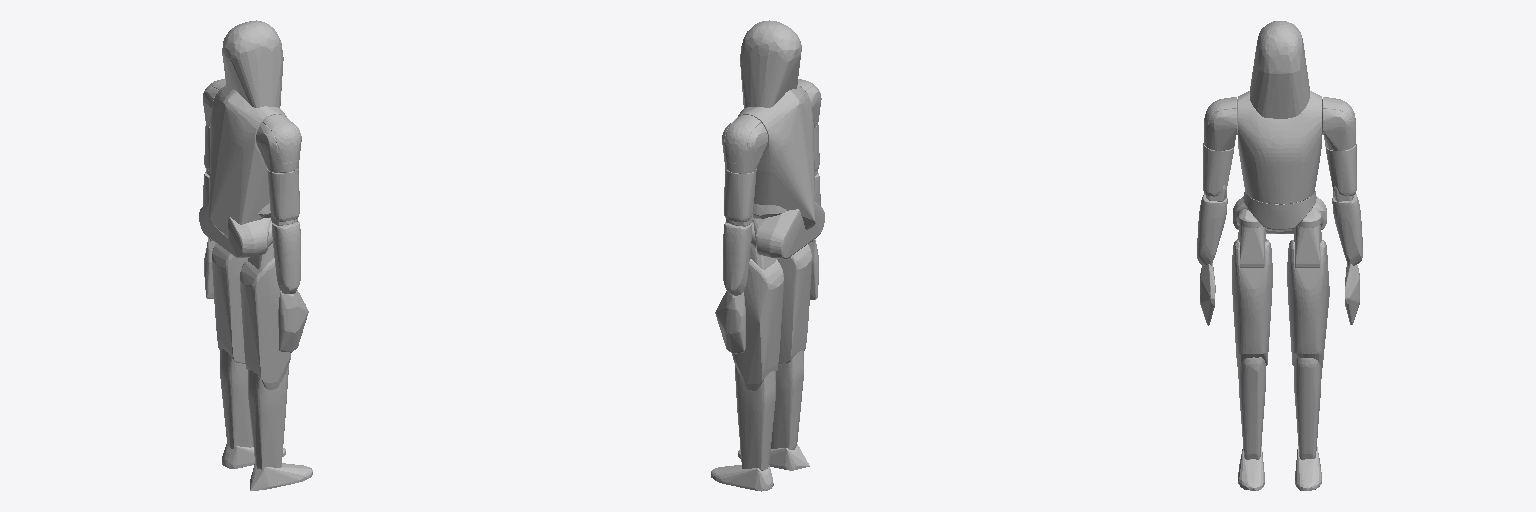
--- Facts derived from the render (not from the file) ---
Views: 3 orthographic renders of the robot side by side, from view 1: azimuth 30°, elevation 25°; view 2: azimuth 150°, elevation 25°; view 3: azimuth 270°, elevation 25°.
Robot: p5_humanoid — 39 links, 38 joints (30 revolute, 8 fixed); root link pelvis; default pose: all joints at 0.
Visible links, largest first — view 1: link_wy, LINK_HIP_PITCH_R, link_hp, LINK_KNEE_PITCH_R, LINK_HIP_PITCH_L, LINK_KNEE_PITCH_L, pelvis, link_ra5, link_ra3, link_ra7, LINK_ANKLE_ROLL_R, link_ra1 (+2 smaller); view 2: link_wy, LINK_HIP_PITCH_L, link_hp, LINK_KNEE_PITCH_L, LINK_HIP_PITCH_R, pelvis, LINK_KNEE_PITCH_R, link_la5, link_la7, link_la3, LINK_ANKLE_ROLL_L, link_la1 (+2 smaller); view 3: link_wy, link_hp, LINK_HIP_PITCH_L, LINK_HIP_PITCH_R, LINK_KNEE_PITCH_R, LINK_KNEE_PITCH_L, link_wr, link_ra5, link_la5, link_la3, link_ra3, link_la2 (+7 smaller).
Boxes of the visible links, x1,y1,x2,y2 form: link_wy: (209,85,286,237); LINK_HIP_PITCH_R: (240,258,290,389); link_hp: (222,20,283,107); LINK_KNEE_PITCH_R: (248,365,288,469); LINK_HIP_PITCH_L: (212,244,246,363); LINK_KNEE_PITCH_L: (220,349,252,448); pelvis: (199,202,270,257); link_ra5: (272,221,300,293); link_ra3: (267,168,299,221); link_ra7: (278,290,308,352); LINK_ANKLE_ROLL_R: (250,463,312,490); link_ra1: (263,114,299,162); link_wy: (738,85,815,229); LINK_HIP_PITCH_L: (732,259,783,390); link_hp: (740,20,801,107); LINK_KNEE_PITCH_L: (735,366,775,470); LINK_HIP_PITCH_R: (777,244,811,364); pelvis: (752,202,824,258); LINK_KNEE_PITCH_R: (771,350,803,449); link_la5: (723,222,751,295); link_la7: (715,291,745,353); link_la3: (724,169,756,222); LINK_ANKLE_ROLL_L: (711,465,773,491); link_la1: (724,115,760,163); link_wy: (1238,91,1321,204); link_hp: (1250,21,1309,118); LINK_HIP_PITCH_L: (1287,240,1329,372); LINK_HIP_PITCH_R: (1232,240,1272,371); LINK_KNEE_PITCH_R: (1238,357,1265,459); LINK_KNEE_PITCH_L: (1294,358,1321,459); link_wr: (1243,191,1316,231); link_ra5: (1197,194,1227,265); link_la5: (1332,194,1362,265); link_la3: (1325,144,1356,195); link_ra3: (1203,143,1234,196); link_la2: (1323,109,1355,150).
Bounding box of the posed robot: 0.3575 × 0.5845 × 1.72 m (x, y, z).
31 mesh visuals loaded from 31 distinct referenced files (31 binary STL).

The robot description file, URDF, robot "p5_humanoid":
<?xml version="1.0" encoding="utf-8"?>
<!-- This URDF was automatically created by SolidWorks to URDF Exporter! Originally created by Stephen Brawner ([email redacted]) 
     Commit Version: 1.6.0-4-g7f85cfe  Build Version: 1.6.7995.38578
     For more information, please see http://wiki.ros.org/sw_urdf_exporter -->
<robot
  name="p5_humanoid">
  <link
    name="pelvis">
    <inertial>
      <origin
        xyz="-0.086313 -4E-06 -0.0084497"
        rpy="0 0 0" />
      <mass
        value="6.1954" />
      <inertia
        ixx="0.062596"
        ixy="4.1E-06"
        ixz="-0.001966"
        iyy="0.019294"
        iyz="-1.52E-06"
        izz="0.061728" />
    </inertial>
    <visual>
      <origin
        xyz="0 0 0"
        rpy="0 0 0" />
      <geometry>
        <mesh
          filename="package://p5_humanoid_description/meshes/pelvis.STL" />
      </geometry>
      <material
        name="">
        <color
          rgba="0.75294 0.75294 0.75294 1" />
      </material>
    </visual>
    <collision>
      <origin
        xyz="0 0 0"
        rpy="0 0 0" />
      <geometry>
        <mesh
          filename="package://p5_humanoid_description/meshes/pelvis.STL" />
      </geometry>
    </collision>
  </link>
  <link
    name="LINK_HIP_ROLL_L">
    <inertial>
      <origin
        xyz="-0.031294 0 0.019786"
        rpy="0 0 0" />
      <mass
        value="0.42465" />
      <inertia
        ixx="0.00053789"
        ixy="0"
        ixz="-0.00015096"
        iyy="0.00070479"
        iyz="0"
        izz="0.00077197" />
    </inertial>
    <visual>
      <origin
        xyz="0 0 0"
        rpy="0 0 0" />
      <geometry>
        <mesh
          filename="package://p5_humanoid_description/meshes/LINK_HIP_ROLL_L.STL" />
      </geometry>
      <material
        name="">
        <color
          rgba="0.75294 0.75294 0.75294 1" />
      </material>
    </visual>
    <collision>
      <origin
        xyz="0 0 0"
        rpy="0 0 0" />
      <geometry>
        <mesh
          filename="package://p5_humanoid_description/meshes/LINK_HIP_ROLL_L.STL" />
      </geometry>
    </collision>
  </link>
  <joint
    name="JOINT_HIP_ROLL_L"
    type="revolute">
    <origin
      xyz="0 0.097 0"
      rpy="0 0 0" />
    <parent
      link="pelvis" />
    <child
      link="LINK_HIP_ROLL_L" />
    <axis
      xyz="1 0 0" />
    <limit
      lower="-0.3491"
      upper="0.5236"
      effort="0"
      velocity="0" />
  </joint>
  <link
    name="LINK_HIP_YAW_L">
    <inertial>
      <origin
        xyz="-0.0016392 -0.0024804 -0.082645"
        rpy="0 0 0" />
      <mass
        value="3.4625" />
      <inertia
        ixx="0.014411"
        ixy="4.002E-05"
        ixz="-0.00016087"
        iyy="0.015463"
        iyz="-0.00037324"
        izz="0.004731" />
    </inertial>
    <visual>
      <origin
        xyz="0 0 0"
        rpy="0 0 0" />
      <geometry>
        <mesh
          filename="package://p5_humanoid_description/meshes/LINK_HIP_YAW_L.STL" />
      </geometry>
      <material
        name="">
        <color
          rgba="0.75294 0.75294 0.75294 1" />
      </material>
    </visual>
    <collision>
      <origin
        xyz="0 0 0"
        rpy="0 0 0" />
      <geometry>
        <mesh
          filename="package://p5_humanoid_description/meshes/LINK_HIP_YAW_L.STL" />
      </geometry>
    </collision>
  </link>
  <joint
    name="JOINT_HIP_YAW_L"
    type="revolute">
    <origin
      xyz="0 0 0"
      rpy="0 0 0" />
    <parent
      link="LINK_HIP_ROLL_L" />
    <child
      link="LINK_HIP_YAW_L" />
    <axis
      xyz="0 0 1" />
    <limit
      lower="-0.2618"
      upper="0.5236"
      effort="0"
      velocity="0" />
  </joint>
  <link
    name="LINK_HIP_PITCH_L">
    <inertial>
      <origin
        xyz="-0.011 -0.00463 -0.15345"
        rpy="0 0 0" />
      <mass
        value="4.94" />
      <inertia
        ixx="0.054775"
        ixy="0.0002207"
        ixz="-0.00068329"
        iyy="0.055558"
        iyz="-7.699E-05"
        izz="0.014543" />
    </inertial>
    <visual>
      <origin
        xyz="0 0 0"
        rpy="0 0 0" />
      <geometry>
        <mesh
          filename="package://p5_humanoid_description/meshes/LINK_HIP_PITCH_L.STL" />
      </geometry>
      <material
        name="">
        <color
          rgba="0.75294 0.75294 0.75294 1" />
      </material>
    </visual>
    <collision>
      <origin
        xyz="0 0 0"
        rpy="0 0 0" />
      <geometry>
        <mesh
          filename="package://p5_humanoid_description/meshes/LINK_HIP_PITCH_L.STL" />
      </geometry>
    </collision>
  </link>
  <joint
    name="JOINT_HIP_PITCH_L"
    type="revolute">
    <origin
      xyz="0 0 -0.118"
      rpy="0 0 0" />
    <parent
      link="LINK_HIP_YAW_L" />
    <child
      link="LINK_HIP_PITCH_L" />
    <axis
      xyz="0 1 0" />
    <limit
      lower="-2.0944"
      upper="0.6981"
      effort="0"
      velocity="0" />
  </joint>
  <link
    name="LINK_KNEE_PITCH_L">
    <inertial>
      <origin
        xyz="0.029073 0.0014349 -0.11933"
        rpy="0 0 0" />
      <mass
        value="3.3429" />
      <inertia
        ixx="0.046651"
        ixy="2.87E-05"
        ixz="0.0017775"
        iyy="0.047076"
        iyz="-0.00051515"
        izz="0.004903" />
    </inertial>
    <visual>
      <origin
        xyz="0 0 0"
        rpy="0 0 0" />
      <geometry>
        <mesh
          filename="package://p5_humanoid_description/meshes/LINK_KNEE_PITCH_L.STL" />
      </geometry>
      <material
        name="">
        <color
          rgba="0.75294 0.75294 0.75294 1" />
      </material>
    </visual>
    <collision>
      <origin
        xyz="0 0 0"
        rpy="0 0 0" />
      <geometry>
        <mesh
          filename="package://p5_humanoid_description/meshes/LINK_KNEE_PITCH_L.STL" />
      </geometry>
    </collision>
  </link>
  <joint
    name="JOINT_KNEE_PITCH_L"
    type="revolute">
    <origin
      xyz="-0.03295 0 -0.3875"
      rpy="0 0 0" />
    <parent
      link="LINK_HIP_PITCH_L" />
    <child
      link="LINK_KNEE_PITCH_L" />
    <axis
      xyz="0 1 0" />
    <limit
      lower="0"
      upper="2.618"
      effort="0"
      velocity="0" />
  </joint>
  <link
    name="LINK_ANKLE_PITCH_L">
    <inertial>
      <origin
        xyz="0 0 -0.0088014"
        rpy="0 0 0" />
      <mass
        value="0.070742" />
      <inertia
        ixx="1.033E-05"
        ixy="0"
        ixz="0"
        iyy="1.12E-05"
        iyz="0"
        izz="1.1E-05" />
    </inertial>
    <visual>
      <origin
        xyz="0 0 0"
        rpy="0 0 0" />
      <geometry>
        <mesh
          filename="package://p5_humanoid_description/meshes/LINK_ANKLE_PITCH_L.STL" />
      </geometry>
      <material
        name="">
        <color
          rgba="0.75294 0.75294 0.75294 1" />
      </material>
    </visual>
    <collision>
      <origin
        xyz="0 0 0"
        rpy="0 0 0" />
      <geometry>
        <mesh
          filename="package://p5_humanoid_description/meshes/LINK_ANKLE_PITCH_L.STL" />
      </geometry>
    </collision>
  </link>
  <joint
    name="JOINT_ANKLE_PITCH_L"
    type="revolute">
    <origin
      xyz="0.035055 0 -0.3867"
      rpy="0 0 3.3961E-05" />
    <parent
      link="LINK_KNEE_PITCH_L" />
    <child
      link="LINK_ANKLE_PITCH_L" />
    <axis
      xyz="0 1 0" />
    <limit
      lower="-1.309"
      upper="0.5236"
      effort="0"
      velocity="0" />
  </joint>
  <link
    name="LINK_ANKLE_ROLL_L">
    <inertial>
      <origin
        xyz="0.01688 0.0011655 -0.025073"
        rpy="0 0 0" />
      <mass
        value="0.72433" />
      <inertia
        ixx="0.0006611"
        ixy="-2E-08"
        ixz="0.00037079"
        iyy="0.0027538"
        iyz="1.054E-05"
        izz="0.0027604" />
    </inertial>
    <visual>
      <origin
        xyz="0 0 0"
        rpy="0 0 0" />
      <geometry>
        <mesh
          filename="package://p5_humanoid_description/meshes/LINK_ANKLE_ROLL_L.STL" />
      </geometry>
      <material
        name="">
        <color
          rgba="0.75294 0.75294 0.75294 1" />
      </material>
    </visual>
    <collision>
      <origin
        xyz="0 0 0"
        rpy="0 0 0" />
      <geometry>
        <mesh
          filename="package://p5_humanoid_description/meshes/LINK_ANKLE_ROLL_L.STL" />
      </geometry>
    </collision>
  </link>
  <joint
    name="JOINT_ANKLE_ROLL_L"
    type="revolute">
    <origin
      xyz="0 0 -0.01"
      rpy="0 0 0" />
    <parent
      link="LINK_ANKLE_PITCH_L" />
    <child
      link="LINK_ANKLE_ROLL_L" />
    <axis
      xyz="1 0 0" />
    <limit
      lower="-0.3491"
      upper="0.3491"
      effort="0"
      velocity="0" />
  </joint>
  <link
    name="LINK_HIP_ROLL_R">
    <inertial>
      <origin
        xyz="-0.031294 0 0.019786"
        rpy="0 0 0" />
      <mass
        value="0.42465" />
      <inertia
        ixx="0.00053789"
        ixy="0"
        ixz="-0.00015096"
        iyy="0.00070479"
        iyz="0"
        izz="0.00077197" />
    </inertial>
    <visual>
      <origin
        xyz="0 0 0"
        rpy="0 0 0" />
      <geometry>
        <mesh
          filename="package://p5_humanoid_description/meshes/LINK_HIP_ROLL_R.STL" />
      </geometry>
      <material
        name="">
        <color
          rgba="0.75294 0.75294 0.75294 1" />
      </material>
    </visual>
    <collision>
      <origin
        xyz="0 0 0"
        rpy="0 0 0" />
      <geometry>
        <mesh
          filename="package://p5_humanoid_description/meshes/LINK_HIP_ROLL_R.STL" />
      </geometry>
    </collision>
  </link>
  <joint
    name="JOINT_HIP_ROLL_R"
    type="revolute">
    <origin
      xyz="0 -0.097 0"
      rpy="0 0 0" />
    <parent
      link="pelvis" />
    <child
      link="LINK_HIP_ROLL_R" />
    <axis
      xyz="1 0 0" />
    <limit
      lower="-0.5236"
      upper="0.3491"
      effort="0"
      velocity="0" />
  </joint>
  <link
    name="LINK_HIP_YAW_R">
    <inertial>
      <origin
        xyz="-0.0017033 0.002551 -0.08263"
        rpy="0 0 0" />
      <mass
        value="3.4625" />
      <inertia
        ixx="0.014606"
        ixy="-3.243E-05"
        ixz="-0.00014634"
        iyy="0.016012"
        iyz="0.00035832"
        izz="0.004918" />
    </inertial>
    <visual>
      <origin
        xyz="0 0 0"
        rpy="0 0 0" />
      <geometry>
        <mesh
          filename="package://p5_humanoid_description/meshes/LINK_HIP_YAW_R.STL" />
      </geometry>
      <material
        name="">
        <color
          rgba="0.75294 0.75294 0.75294 1" />
      </material>
    </visual>
    <collision>
      <origin
        xyz="0 0 0"
        rpy="0 0 0" />
      <geometry>
        <mesh
          filename="package://p5_humanoid_description/meshes/LINK_HIP_YAW_R.STL" />
      </geometry>
    </collision>
  </link>
  <joint
    name="JOINT_HIP_YAW_R"
    type="revolute">
    <origin
      xyz="0 0 0"
      rpy="0 0 0" />
    <parent
      link="LINK_HIP_ROLL_R" />
    <child
      link="LINK_HIP_YAW_R" />
    <axis
      xyz="0 0 1" />
    <limit
      lower="-0.5236"
      upper="0.2618"
      effort="0"
      velocity="0" />
  </joint>
  <link
    name="LINK_HIP_PITCH_R">
    <inertial>
      <origin
        xyz="-0.011083 0.0043032 -0.15344"
        rpy="0 0 0" />
      <mass
        value="4.9401" />
      <inertia
        ixx="0.054772"
        ixy="-0.00022024"
        ixz="-0.00068286"
        iyy="0.055556"
        iyz="7.864E-05"
        izz="0.014543" />
    </inertial>
    <visual>
      <origin
        xyz="0 0 0"
        rpy="0 0 0" />
      <geometry>
        <mesh
          filename="package://p5_humanoid_description/meshes/LINK_HIP_PITCH_R.STL" />
      </geometry>
      <material
        name="">
        <color
          rgba="0.75294 0.75294 0.75294 1" />
      </material>
    </visual>
    <collision>
      <origin
        xyz="0 0 0"
        rpy="0 0 0" />
      <geometry>
        <mesh
          filename="package://p5_humanoid_description/meshes/LINK_HIP_PITCH_R.STL" />
      </geometry>
    </collision>
  </link>
  <joint
    name="JOINT_HIP_PITCH_R"
    type="revolute">
    <origin
      xyz="0 0 -0.118"
      rpy="0 0 0" />
    <parent
      link="LINK_HIP_YAW_R" />
    <child
      link="LINK_HIP_PITCH_R" />
    <axis
      xyz="0 1 0" />
    <limit
      lower="-2.0944"
      upper="0.6981"
      effort="0"
      velocity="0" />
  </joint>
  <link
    name="LINK_KNEE_PITCH_R">
    <inertial>
      <origin
        xyz="0.02892 -0.0013569 -0.11936"
        rpy="0 0 0" />
      <mass
        value="3.3425" />
      <inertia
        ixx="0.046652"
        ixy="-3.614E-05"
        ixz="0.0017239"
        iyy="0.047082"
        iyz="0.0005166"
        izz="0.0048925" />
    </inertial>
    <visual>
      <origin
        xyz="0 0 0"
        rpy="0 0 0" />
      <geometry>
        <mesh
          filename="package://p5_humanoid_description/meshes/LINK_KNEE_PITCH_R.STL" />
      </geometry>
      <material
        name="">
        <color
          rgba="0.75294 0.75294 0.75294 1" />
      </material>
    </visual>
    <collision>
      <origin
        xyz="0 0 0"
        rpy="0 0 0" />
      <geometry>
        <mesh
          filename="package://p5_humanoid_description/meshes/LINK_KNEE_PITCH_R.STL" />
      </geometry>
    </collision>
  </link>
  <joint
    name="JOINT_KNEE_PITCH_R"
    type="revolute">
    <origin
      xyz="-0.03295 0 -0.3875"
      rpy="0 0 0" />
    <parent
      link="LINK_HIP_PITCH_R" />
    <child
      link="LINK_KNEE_PITCH_R" />
    <axis
      xyz="0 1 0" />
    <limit
      lower="0"
      upper="2.618"
      effort="0"
      velocity="0" />
  </joint>
  <link
    name="LINK_ANKLE_PITCH_R">
    <inertial>
      <origin
        xyz="0 0 -0.0088014"
        rpy="0 0 0" />
      <mass
        value="0.070742" />
      <inertia
        ixx="1.033E-05"
        ixy="0"
        ixz="0"
        iyy="1.12E-05"
        iyz="0"
        izz="1.1E-05" />
    </inertial>
    <visual>
      <origin
        xyz="0 0 0"
        rpy="0 0 0" />
      <geometry>
        <mesh
          filename="package://p5_humanoid_description/meshes/LINK_ANKLE_PITCH_R.STL" />
      </geometry>
      <material
        name="">
        <color
          rgba="0.75294 0.75294 0.75294 1" />
      </material>
    </visual>
    <collision>
      <origin
        xyz="0 0 0"
        rpy="0 0 0" />
      <geometry>
        <mesh
          filename="package://p5_humanoid_description/meshes/LINK_ANKLE_PITCH_R.STL" />
      </geometry>
    </collision>
  </link>
  <joint
    name="JOINT_ANKLE_PITCH_R"
    type="revolute">
    <origin
      xyz="0.035043 0 -0.3867"
      rpy="0 0 0" />
    <parent
      link="LINK_KNEE_PITCH_R" />
    <child
      link="LINK_ANKLE_PITCH_R" />
    <axis
      xyz="0 1 0" />
    <limit
      lower="-1.309"
      upper="0.5236"
      effort="0"
      velocity="0" />
  </joint>
  <link
    name="LINK_ANKLE_ROLL_R">
    <inertial>
      <origin
        xyz="0.016863 -0.0011813 -0.025073"
        rpy="0 0 0" />
      <mass
        value="0.72452" />
      <inertia
        ixx="0.00066108"
        ixy="-4.6E-07"
        ixz="0.0003708"
        iyy="0.0027548"
        iyz="-1.059E-05"
        izz="0.0027613" />
    </inertial>
    <visual>
      <origin
        xyz="0 0 0"
        rpy="0 0 0" />
      <geometry>
        <mesh
          filename="package://p5_humanoid_description/meshes/LINK_ANKLE_ROLL_R.STL" />
      </geometry>
      <material
        name="">
        <color
          rgba="0.75294 0.75294 0.75294 1" />
      </material>
    </visual>
    <collision>
      <origin
        xyz="0 0 0"
        rpy="0 0 0" />
      <geometry>
        <mesh
          filename="package://p5_humanoid_description/meshes/LINK_ANKLE_ROLL_R.STL" />
      </geometry>
    </collision>
  </link>
  <joint
    name="JOINT_ANKLE_ROLL_R"
    type="revolute">
    <origin
      xyz="0 0 -0.01"
      rpy="0 2.8897E-05 0" />
    <parent
      link="LINK_ANKLE_PITCH_R" />
    <child
      link="LINK_ANKLE_ROLL_R" />
    <axis
      xyz="1 0 0" />
    <limit
      lower="-0.3491"
      upper="0.3491"
      effort="0"
      velocity="0" />
  </joint>
  <link
    name="link_wr">
    <inertial>
      <origin
        xyz="-0.013922 -6.78E-06 0.011598"
        rpy="0 0 0" />
      <mass
        value="2.3853" />
      <inertia
        ixx="0.0053423"
        ixy="1.641E-05"
        ixz="-0.00052901"
        iyy="0.010869"
        iyz="-1.65E-06"
        izz="0.012633" />
    </inertial>
    <visual>
      <origin
        xyz="0 0 0"
        rpy="0 0 0" />
      <geometry>
        <mesh
          filename="package://p5_humanoid_description/meshes/link_wr.STL" />
      </geometry>
      <material
        name="">
        <color
          rgba="0.75294 0.75294 0.75294 1" />
      </material>
    </visual>
    <collision>
      <origin
        xyz="0 0 0"
        rpy="0 0 0" />
      <geometry>
        <mesh
          filename="package://p5_humanoid_description/meshes/link_wr.STL" />
      </geometry>
    </collision>
  </link>
  <joint
    name="joint_wr"
    type="revolute">
    <origin
      xyz="-0.016 0 0.06213"
      rpy="0 0 0" />
    <parent
      link="pelvis" />
    <child
      link="link_wr" />
    <axis
      xyz="1 0 0" />
    <limit
      lower="-0.2618"
      upper="0.2618"
      effort="0"
      velocity="0" />
  </joint>
  <link
    name="link_wy">
    <inertial>
      <origin
        xyz="-0.014502 -0.0015171 0.24091"
        rpy="0 0 0" />
      <mass
        value="15.996" />
      <inertia
        ixx="0.22953"
        ixy="-0.00061036"
        ixz="0.0056717"
        iyy="0.18298"
        iyz="-0.0013464"
        izz="0.11524" />
    </inertial>
    <visual>
      <origin
        xyz="0 0 0"
        rpy="0 0 0" />
      <geometry>
        <mesh
          filename="package://p5_humanoid_description/meshes/link_wy.STL" />
      </geometry>
      <material
        name="">
        <color
          rgba="0.75294 0.75294 0.75294 1" />
      </material>
    </visual>
    <collision>
      <origin
        xyz="0 0 0"
        rpy="0 0 0" />
      <geometry>
        <mesh
          filename="package://p5_humanoid_description/meshes/link_wy.STL" />
      </geometry>
    </collision>
  </link>
  <joint
    name="joint_wy"
    type="revolute">
    <origin
      xyz="0 0 0"
      rpy="0 0 0" />
    <parent
      link="link_wr" />
    <child
      link="link_wy" />
    <axis
      xyz="0 0 1" />
    <limit
      lower="-1.5708"
      upper="1.5708"
      effort="0"
      velocity="0" />
  </joint>
  <link
    name="link_hy">
    <inertial>
      <origin
        xyz="-0.0034506 0.001566 -0.065774"
        rpy="0 0 0" />
      <mass
        value="1.151" />
      <inertia
        ixx="0.0051785"
        ixy="1.25E-06"
        ixz="0.00024141"
        iyy="0.0052665"
        iyz="-0.00012561"
        izz="0.00075436" />
    </inertial>
    <visual>
      <origin
        xyz="0 0 0"
        rpy="0 0 0" />
      <geometry>
        <mesh
          filename="package://p5_humanoid_description/meshes/link_hy.STL" />
      </geometry>
      <material
        name="">
        <color
          rgba="0.75294 0.75294 0.75294 1" />
      </material>
    </visual>
    <collision>
      <origin
        xyz="0 0 0"
        rpy="0 0 0" />
      <geometry>
        <mesh
          filename="package://p5_humanoid_description/meshes/link_hy.STL" />
      </geometry>
    </collision>
  </link>
  <joint
    name="joint_hy"
    type="revolute">
    <origin
      xyz="-0.0059657 0 0.50108"
      rpy="0 0 0" />
    <parent
      link="link_wy" />
    <child
      link="link_hy" />
    <axis
      xyz="0 0 1" />
    <limit
      lower="-0.5236"
      upper="0.5236"
      effort="0"
      velocity="0" />
  </joint>
  <link
    name="link_hp">
    <inertial>
      <origin
        xyz="0.0217 0.001961 0.086484"
        rpy="0 0 0" />
      <mass
        value="1.6375" />
      <inertia
        ixx="0.0078104"
        ixy="6.971E-05"
        ixz="0.00089759"
        iyy="0.0091649"
        iyz="0.00015146"
        izz="0.0065063" />
    </inertial>
    <visual>
      <origin
        xyz="0 0 0"
        rpy="0 0 0" />
      <geometry>
        <mesh
          filename="package://p5_humanoid_description/meshes/link_hp.STL" />
      </geometry>
      <material
        name="">
        <color
          rgba="0.75294 0.75294 0.75294 1" />
      </material>
    </visual>
    <collision>
      <origin
        xyz="0 0 0"
        rpy="0 0 0" />
      <geometry>
        <mesh
          filename="package://p5_humanoid_description/meshes/link_hp.STL" />
      </geometry>
    </collision>
  </link>
  <joint
    name="joint_hp"
    type="revolute">
    <origin
      xyz="-0.0065 0 0"
      rpy="0 0 0" />
    <parent
      link="link_hy" />
    <child
      link="link_hp" />
    <axis
      xyz="0 1 0" />
    <limit
      lower="-0.3491"
      upper="0.3491"
      effort="0"
      velocity="0" />
  </joint>

  <link name="link_head_rgbd">
  </link>
  <joint name="joint_head_rgbd" type="fixed">
    <parent link="link_hp"/>
    <child link="link_head_rgbd"/>
    <origin rpy="0.0 2.1198769095 0.0" xyz="0.06093 0.0325 -0.02199"/>
  </joint>

  <link name="link_head_rgbd_camera">
  </link>
  <joint name="joint_head_rgbd_camera" type="fixed">
    <parent link="link_head_rgbd"/>
    <child link="link_head_rgbd_camera"/>
    <origin rpy="0 0 -1.570796326794897" xyz="0 0 0"/>
  </joint>




  <link
    name="link_la1">
    <inertial>
      <origin
        xyz="-0.0017427 -0.0032911 -0.00048706"
        rpy="0 0 0" />
      <mass
        value="1.5214" />
      <inertia
        ixx="0.0020202"
        ixy="1.53E-06"
        ixz="-8E-08"
        iyy="0.0020419"
        iyz="2.22E-05"
        izz="0.0021238" />
    </inertial>
    <visual>
      <origin
        xyz="0 0 0"
        rpy="0 0 0" />
      <geometry>
        <mesh
          filename="package://p5_humanoid_description/meshes/link_la1.STL" />
      </geometry>
      <material
        name="">
        <color
          rgba="0.75294 0.75294 0.75294 1" />
      </material>
    </visual>
    <collision>
      <origin
        xyz="0 0 0"
        rpy="0 0 0" />
      <geometry>
        <mesh
          filename="package://p5_humanoid_description/meshes/link_la1.STL" />
      </geometry>
    </collision>
  </link>
  <joint
    name="joint_la1"
    type="revolute">
    <origin
      xyz="-0.0079 0.19799 0.346"
      rpy="0 0 0" />
    <parent
      link="link_wy" />
    <child
      link="link_la1" />
    <axis
      xyz="0 1 0" />
    <limit
      lower="-2.7576"
      upper="2.7576"
      effort="0"
      velocity="0" />
  </joint>
  <link
    name="link_la2">
    <inertial>
      <origin
        xyz="-0.002658 0.006084 -0.044177"
        rpy="0 0 0" />
      <mass
        value="0.59342" />
      <inertia
        ixx="0.0019946"
        ixy="-1.05E-05"
        ixz="5.194E-05"
        iyy="0.0027114"
        iyz="0.000263"
        izz="0.0017907" />
    </inertial>
    <visual>
      <origin
        xyz="0 0 0"
        rpy="0 0 0" />
      <geometry>
        <mesh
          filename="package://p5_humanoid_description/meshes/link_la2.STL" />
      </geometry>
      <material
        name="">
        <color
          rgba="0.75294 0.75294 0.75294 1" />
      </material>
    </visual>
    <collision>
      <origin
        xyz="0 0 0"
        rpy="0 0 0" />
      <geometry>
        <mesh
          filename="package://p5_humanoid_description/meshes/link_la2.STL" />
      </geometry>
    </collision>
  </link>
  <joint
    name="joint_la2"
    type="revolute">
    <origin
      xyz="0 0 0"
      rpy="0 0 0" />
    <parent
      link="link_la1" />
    <child
      link="link_la2" />
    <axis
      xyz="1 0 0" />
    <limit
      lower="-0.2618"
      upper="2.8798"
      effort="0"
      velocity="0" />
  </joint>
  <link
    name="link_la3">
    <inertial>
      <origin
        xyz="-0.0043043 -0.00056853 -0.086242"
        rpy="0 0 0" />
      <mass
        value="1.8035" />
      <inertia
        ixx="0.008233"
        ixy="3.217E-05"
        ixz="-0.00050344"
        iyy="0.0082866"
        iyz="-0.0001859"
        izz="0.0017181" />
    </inertial>
    <visual>
      <origin
        xyz="0 0 0"
        rpy="0 0 0" />
      <geometry>
        <mesh
          filename="package://p5_humanoid_description/meshes/link_la3.STL" />
      </geometry>
      <material
        name="">
        <color
          rgba="0.75294 0.75294 0.75294 1" />
      </material>
    </visual>
    <collision>
      <origin
        xyz="0 0 0"
        rpy="0 0 0" />
      <geometry>
        <mesh
          filename="package://p5_humanoid_description/meshes/link_la3.STL" />
      </geometry>
    </collision>
  </link>
  <joint
    name="joint_la3"
    type="revolute">
    <origin
      xyz="-5.6644E-05 0.015599 -0.10454"
      rpy="0.087272 0 0" />
    <parent
      link="link_la2" />
    <child
      link="link_la3" />
    <axis
      xyz="0 0 1" />
    <limit
      lower="-2.618"
      upper="2.618"
      effort="0"
      velocity="0" />
  </joint>
  <link
    name="link_la4">
    <inertial>
      <origin
        xyz="-0.0037512 0.00059846 -0.022713"
        rpy="0 0 0" />
      <mass
        value="0.19646" />
      <inertia
        ixx="0.00014929"
        ixy="-5.55E-06"
        ixz="2.026E-05"
        iyy="0.0002863"
        iyz="-1.87E-06"
        izz="0.00023341" />
    </inertial>
    <visual>
      <origin
        xyz="0 0 0"
        rpy="0 0 0" />
      <geometry>
        <mesh
          filename="package://p5_humanoid_description/meshes/link_la4.STL" />
      </geometry>
      <material
        name="">
        <color
          rgba="0.75294 0.75294 0.75294 1" />
      </material>
    </visual>
    <collision>
      <origin
        xyz="0 0 0"
        rpy="0 0 0" />
      <geometry>
        <mesh
          filename="package://p5_humanoid_description/meshes/link_la4.STL" />
      </geometry>
    </collision>
  </link>
  <joint
    name="joint_la4"
    type="revolute">
    <origin
      xyz="-0.00075212 -0.0049993 -0.154"
      rpy="0 -1.4664E-05 -0.00087622" />
    <parent
      link="link_la3" />
    <child
      link="link_la4" />
    <axis
      xyz="1 0 0" />
    <limit
      lower="-2.2166"
      upper="0.1745"
      effort="0"
      velocity="0" />
  </joint>
  <link
    name="link_la5">
    <inertial>
      <origin
        xyz="8.05E-05 0.00037564 -0.15082"
        rpy="0 0 0" />
      <mass
        value="2.0103" />
      <inertia
        ixx="0.013613"
        ixy="2.4E-07"
        ixz="-1.157E-05"
        iyy="0.013825"
        iyz="0.00019251"
        izz="0.0018716" />
    </inertial>
    <visual>
      <origin
        xyz="0 0 0"
        rpy="0 0 0" />
      <geometry>
        <mesh
          filename="package://p5_humanoid_description/meshes/link_la5.STL" />
      </geometry>
      <material
        name="">
        <color
          rgba="0.75294 0.75294 0.75294 1" />
      </material>
    </visual>
    <collision>
      <origin
        xyz="0 0 0"
        rpy="0 0 0" />
      <geometry>
        <mesh
          filename="package://p5_humanoid_description/meshes/link_la5.STL" />
      </geometry>
    </collision>
  </link>
  <joint
    name="joint_la5"
    type="revolute">
    <origin
      xyz="0 0 0"
      rpy="0 0 0" />
    <parent
      link="link_la4" />
    <child
      link="link_la5" />
    <axis
      xyz="0 0 1" />
    <limit
      lower="-2.9147"
      upper="2.9147"
      effort="0"
      velocity="0" />
  </joint>
  <link
    name="link_la6">
    <inertial>
      <origin
        xyz="0 -0.010485 -1.3192E-05"
        rpy="0 0 0" />
      <mass
        value="0.0077626" />
      <inertia
        ixx="8.9E-07"
        ixy="0"
        ixz="0"
        iyy="1.4E-07"
        iyz="0"
        izz="9.3E-07" />
    </inertial>
    <visual>
      <origin
        xyz="0 0 0"
        rpy="0 0 0" />
      <geometry>
        <mesh
          filename="package://p5_humanoid_description/meshes/link_la6.STL" />
      </geometry>
      <material
        name="">
        <color
          rgba="0.89804 0.91765 0.92941 1" />
      </material>
    </visual>
    <collision>
      <origin
        xyz="0 0 0"
        rpy="0 0 0" />
      <geometry>
        <mesh
          filename="package://p5_humanoid_description/meshes/link_la6.STL" />
      </geometry>
    </collision>
  </link>
  <joint
    name="joint_la6"
    type="revolute">
    <origin
      xyz="0 0.02371 -0.29585"
      rpy="0.045412 0 0" />
    <parent
      link="link_la5" />
    <child
      link="link_la6" />
    <axis
      xyz="1 0 0" />
    <limit
      lower="-0.9948"
      upper="0.9948"
      effort="0"
      velocity="0" />
  </joint>
  <link
    name="link_la7">
    <inertial>
      <origin
        xyz="0.0083132 -0.033889 -0.09968"
        rpy="0 0 0" />
      <mass
        value="0.71188" />
      <inertia
        ixx="0.0024842"
        ixy="9.201E-05"
        ixz="6.102E-05"
        iyy="0.0029165"
        iyz="-0.00026204"
        izz="0.00065895" />
    </inertial>
    <visual>
      <origin
        xyz="0 0 0"
        rpy="0 0 0" />
      <geometry>
        <mesh
          filename="package://p5_humanoid_description/meshes/link_la7.STL" />
      </geometry>
      <material
        name="">
        <color
          rgba="0.75294 0.75294 0.75294 1" />
      </material>
    </visual>
    <collision>
      <origin
        xyz="0 0 0"
        rpy="0 0 0" />
      <geometry>
        <mesh
          filename="package://p5_humanoid_description/meshes/link_la7.STL" />
      </geometry>
    </collision>
  </link>
  <joint
    name="joint_la7"
    type="revolute">
    <origin
      xyz="0 0 0"
      rpy="0 0 0" />
    <parent
      link="link_la6" />
    <child
      link="link_la7" />
    <axis
      xyz="0 1 0" />
    <limit
      lower="-0.857"
      upper="1.2036"
      effort="0"
      velocity="0" />
  </joint>
  
  
  
  <link name="link_FT_l">
    <inertial>
      <mass value="0"/>
      <origin rpy="0 0 0" xyz="0 0 0"/>
      <inertia ixx="0" ixy="0" ixz="0" iyy="0" iyz="0" izz="0"/>
    </inertial>
    <collision>
      <geometry>
        <box size="0.01 0.01 0.01"/>
      </geometry>
      <origin rpy="0 0 0" xyz="-0.01 0 0"/>
    </collision>
  </link>

  <joint
    name="joint_FT_l"
    type="fixed">
    <origin
      xyz="0 0 -0.008"
      rpy="0 0 0" />
    <parent
      link="link_la7" />
    <child
      link="link_FT_l" />
  </joint>
  
  
  <link name="link_FT_l2" />
  <joint
    name="joint_FT_l2"
    type="fixed">
    <origin
      xyz="0.05 -0.05 -0.06"
      rpy="0. 0. 0.6" />
    <parent
      link="link_la7" />
    <child
      link="link_FT_l2" />
  </joint>
  
  
  
  
  
  
  <link name="link_tcp_l" />
  <joint name="joint_tcp_l" type="fixed">
    <origin xyz="0 -0.035 -0.15" rpy="0 0 0" />
    <parent link="link_la7" />
    <child link="link_tcp_l" />
    <axis xyz="0 0 0" />
  </joint>

  <link
    name="link_ra1">
    <inertial>
      <origin
        xyz="0.0017444 0.0032911 -0.00048706"
        rpy="0 0 0" />
      <mass
        value="1.5214" />
      <inertia
        ixx="0.0020202"
        ixy="1.53E-06"
        ixz="8E-08"
        iyy="0.0020419"
        iyz="-2.22E-05"
        izz="0.0021238" />
    </inertial>
    <visual>
      <origin
        xyz="0 0 0"
        rpy="0 0 0" />
      <geometry>
        <mesh
          filename="package://p5_humanoid_description/meshes/link_ra1.STL" />
      </geometry>
      <material
        name="">
        <color
          rgba="0.75294 0.75294 0.75294 1" />
      </material>
    </visual>
    <collision>
      <origin
        xyz="0 0 0"
        rpy="0 0 0" />
      <geometry>
        <mesh
          filename="package://p5_humanoid_description/meshes/link_ra1.STL" />
      </geometry>
    </collision>
  </link>
  <joint
    name="joint_ra1"
    type="revolute">
    <origin
      xyz="-0.0079 -0.19799 0.346"
      rpy="0 0 0" />
    <parent
      link="link_wy" />
    <child
      link="link_ra1" />
    <axis
      xyz="0 1 0" />
    <limit
      lower="-2.7576"
      upper="2.7576"
      effort="0"
      velocity="0" />
  </joint>
  <link
    name="link_ra2">
    <inertial>
      <origin
        xyz="0.00266 -0.006084 -0.044177"
        rpy="0 0 0" />
      <mass
        value="0.5934" />
      <inertia
        ixx="0.0019946"
        ixy="-1.051E-05"
        ixz="-5.194E-05"
        iyy="0.0027114"
        iyz="-0.000263"
        izz="0.0017907" />
    </inertial>
    <visual>
      <origin
        xyz="0 0 0"
        rpy="0 0 0" />
      <geometry>
        <mesh
          filename="package://p5_humanoid_description/meshes/link_ra2.STL" />
      </geometry>
      <material
        name="">
        <color
          rgba="0.75294 0.75294 0.75294 1" />
      </material>
    </visual>
    <collision>
      <origin
        xyz="0 0 0"
        rpy="0 0 0" />
      <geometry>
        <mesh
          filename="package://p5_humanoid_description/meshes/link_ra2.STL" />
      </geometry>
    </collision>
  </link>
  <joint
    name="joint_ra2"
    type="revolute">
    <origin
      xyz="0 0 0"
      rpy="0 0 0" />
    <parent
      link="link_ra1" />
    <child
      link="link_ra2" />
    <axis
      xyz="1 0 0" />
    <limit
      lower="-2.8798"
      upper="0.2618"
      effort="0"
      velocity="0" />
  </joint>
  <link
    name="link_ra3">
    <inertial>
      <origin
        xyz="0.0043044 0.0005686 -0.086242"
        rpy="0 0 0" />
      <mass
        value="1.8035" />
      <inertia
        ixx="0.008233"
        ixy="-3.217E-05"
        ixz="0.00050344"
        iyy="0.0082866"
        iyz="0.00018591"
        izz="0.0017181" />
    </inertial>
    <visual>
      <origin
        xyz="0 0 0"
        rpy="0 0 0" />
      <geometry>
        <mesh
          filename="package://p5_humanoid_description/meshes/link_ra3.STL" />
      </geometry>
      <material
        name="">
        <color
          rgba="0.75294 0.75294 0.75294 1" />
      </material>
    </visual>
    <collision>
      <origin
        xyz="0 0 0"
        rpy="0 0 0" />
      <geometry>
        <mesh
          filename="package://p5_humanoid_description/meshes/link_ra3.STL" />
      </geometry>
    </collision>
  </link>
  <joint
    name="joint_ra3"
    type="revolute">
    <origin
      xyz="5.871E-05 -0.015599 -0.10454"
      rpy="-0.087272 0 0" />
    <parent
      link="link_ra2" />
    <child
      link="link_ra3" />
    <axis
      xyz="0 0 1" />
    <limit
      lower="-2.618"
      upper="2.618"
      effort="0"
      velocity="0" />
  </joint>
  <link
    name="link_ra4">
    <inertial>
      <origin
        xyz="0.0037512 -0.00059846 -0.022713"
        rpy="0 0 0" />
      <mass
        value="0.19646" />
      <inertia
        ixx="0.00014929"
        ixy="-5.55E-06"
        ixz="-2.026E-05"
        iyy="0.0002863"
        iyz="1.87E-06"
        izz="0.00023341" />
    </inertial>
    <visual>
      <origin
        xyz="0 0 0"
        rpy="0 0 0" />
      <geometry>
        <mesh
          filename="package://p5_humanoid_description/meshes/link_ra4.STL" />
      </geometry>
      <material
        name="">
        <color
          rgba="0.75294 0.75294 0.75294 1" />
      </material>
    </visual>
    <collision>
      <origin
        xyz="0 0 0"
        rpy="0 0 0" />
      <geometry>
        <mesh
          filename="package://p5_humanoid_description/meshes/link_ra4.STL" />
      </geometry>
    </collision>
  </link>
  <joint
    name="joint_ra4"
    type="revolute">
    <origin
      xyz="0.00075225 0.0049994 -0.154"
      rpy="0 1.3325E-05 -0.00086091" />
    <parent
      link="link_ra3" />
    <child
      link="link_ra4" />
    <axis
      xyz="1 0 0" />
    <limit
      lower="-0.1745"
      upper="2.2166"
      effort="0"
      velocity="0" />
  </joint>
  <link
    name="link_ra5">
    <inertial>
      <origin
        xyz="-8.05E-05 -0.00037564 -0.15082"
        rpy="0 0 0" />
      <mass
        value="2.0103" />
      <inertia
        ixx="0.013613"
        ixy="2.4E-07"
        ixz="1.157E-05"
        iyy="0.013825"
        iyz="-0.00019251"
        izz="0.0018716" />
    </inertial>
    <visual>
      <origin
        xyz="0 0 0"
        rpy="0 0 0" />
      <geometry>
        <mesh
          filename="package://p5_humanoid_description/meshes/link_ra5.STL" />
      </geometry>
      <material
        name="">
        <color
          rgba="0.75294 0.75294 0.75294 1" />
      </material>
    </visual>
    <collision>
      <origin
        xyz="0 0 0"
        rpy="0 0 0" />
      <geometry>
        <mesh
          filename="package://p5_humanoid_description/meshes/link_ra5.STL" />
      </geometry>
    </collision>
  </link>
  <joint
    name="joint_ra5"
    type="revolute">
    <origin
      xyz="0 0 0"
      rpy="0 0 0" />
    <parent
      link="link_ra4" />
    <child
      link="link_ra5" />
    <axis
      xyz="0 0 1" />
    <limit
      lower="-2.9147"
      upper="2.9147"
      effort="0"
      velocity="0" />
  </joint>
  <link
    name="link_ra6">
    <inertial>
      <origin
        xyz="0 0.010485 -1.3192E-05"
        rpy="0 0 0" />
      <mass
        value="0.0077626" />
      <inertia
        ixx="8.9E-07"
        ixy="0"
        ixz="0"
        iyy="1.4E-07"
        iyz="0"
        izz="9.3E-07" />
    </inertial>
    <visual>
      <origin
        xyz="0 0 0"
        rpy="0 0 0" />
      <geometry>
        <mesh
          filename="package://p5_humanoid_description/meshes/link_ra6.STL" />
      </geometry>
      <material
        name="">
        <color
          rgba="0.89804 0.91765 0.92941 1" />
      </material>
    </visual>
    <collision>
      <origin
        xyz="0 0 0"
        rpy="0 0 0" />
      <geometry>
        <mesh
          filename="package://p5_humanoid_description/meshes/link_ra6.STL" />
      </geometry>
    </collision>
  </link>
  <joint
    name="joint_ra6"
    type="revolute">
    <origin
      xyz="0 -0.02371 -0.29585"
      rpy="-0.045412 0 0" />
    <parent
      link="link_ra5" />
    <child
      link="link_ra6" />
    <axis
      xyz="1 0 0" />
    <limit
      lower="-0.9948"
      upper="0.9948"
      effort="0"
      velocity="0" />
  </joint>
  <link
    name="link_ra7">
    <inertial>
      <origin
        xyz="0.0086251 0.034032 -0.099639"
        rpy="0 0 0" />
      <mass
        value="0.71188" />
      <inertia
        ixx="0.0024868"
        ixy="-9.972E-05"
        ixz="6.088E-05"
        iyy="0.0029122"
        iyz="0.00026261"
        izz="0.00065847" />
    </inertial>
    <visual>
      <origin
        xyz="0 0 0"
        rpy="0 0 0" />
      <geometry>
        <mesh
          filename="package://p5_humanoid_description/meshes/link_ra7.STL" />
      </geometry>
      <material
        name="">
        <color
          rgba="0.75294 0.75294 0.75294 1" />
      </material>
    </visual>
    <collision>
      <origin
        xyz="0 0 0"
        rpy="0 0 0" />
      <geometry>
        <mesh
          filename="package://p5_humanoid_description/meshes/link_ra7.STL" />
      </geometry>
    </collision>
  </link>
  <joint
    name="joint_ra7"
    type="revolute">
    <origin
      xyz="0 0 0"
      rpy="0 0 0" />
    <parent
      link="link_ra6" />
    <child
      link="link_ra7" />
    <axis
      xyz="0 1 0" />
    <limit
      lower="-1.2036"
      upper="0.857"
      effort="0"
      velocity="0" />
  </joint>

  <link name="link_FT_r">
    <inertial>
      <mass value="0"/>
      <origin rpy="0 0 0" xyz="0 0 0"/>
      <inertia ixx="0" ixy="0" ixz="0" iyy="0" iyz="0" izz="0"/>
    </inertial>
    <collision>
      <geometry>
        <box size="0.01 0.01 0.01"/>
      </geometry>
      <origin rpy="0 0 0" xyz="-0.01 0 0"/>
    </collision>
  </link>

  <joint
    name="joint_FT_r"
    type="fixed">
    <origin
      xyz="0 0 -0.008"
      rpy="0 0 0" />
    <parent
      link="link_ra7" />
    <child
      link="link_FT_r" />
  </joint>

  <link name="link_FT_r2" />
  <joint
    name="joint_FT_r2"
    type="fixed">
    <origin
      xyz="0.05 0.05 -0.06"
      rpy="-0.0 0.0 -0.8" />
    <parent
      link="link_ra7" />
    <child
      link="link_FT_r2" />
  </joint>



  <link name="link_tcp_r" />
  <joint name="joint_tcp_r" type="fixed">
    <origin xyz="0 0.035 -0.15" rpy="0 0 0" />
    <parent link="link_ra7" />
    <child link="link_tcp_r" />
    <axis xyz="0 0 0" />
  </joint>
</robot>
